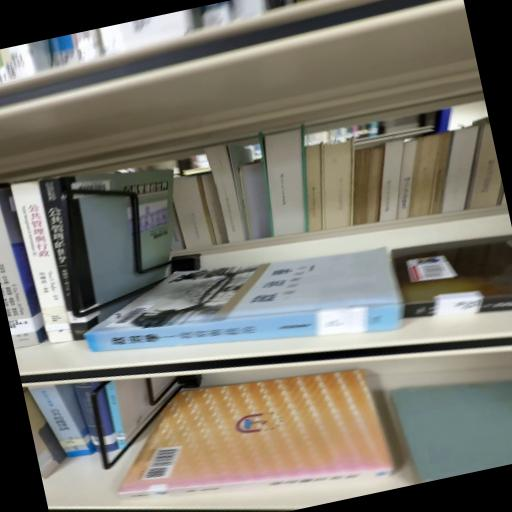flat: (119, 370, 393, 498), (86, 248, 404, 352)
